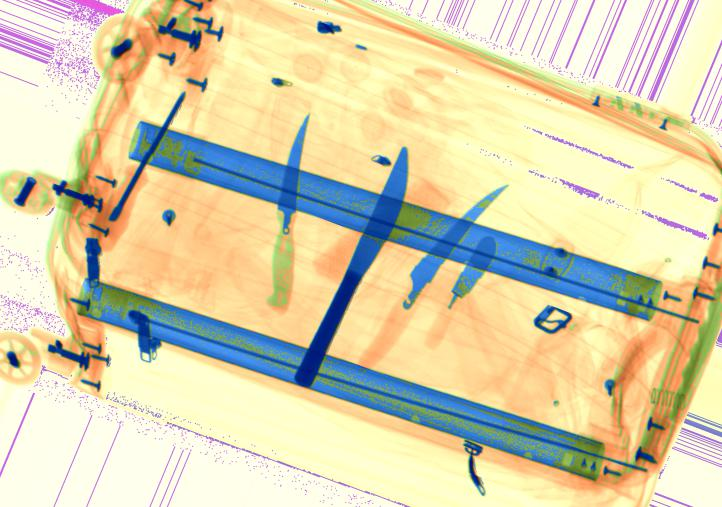Knife: (295, 146, 411, 387), (397, 183, 511, 320), (262, 110, 312, 315), (426, 235, 499, 346)
